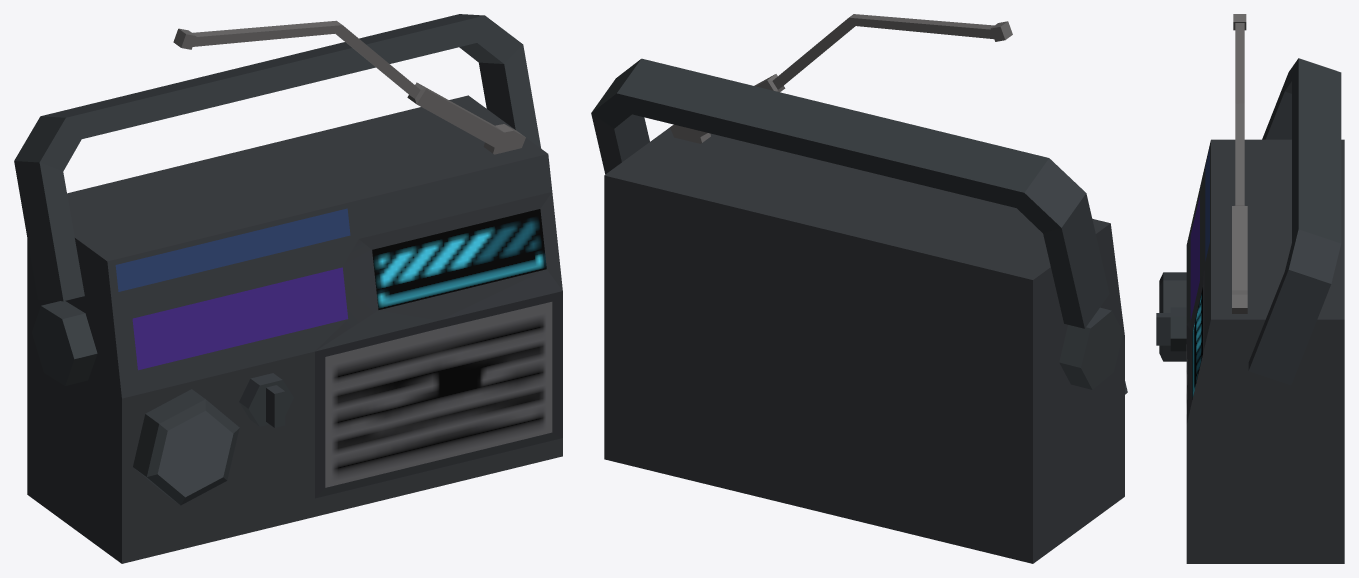
The model's file is SM_Prop_Radio_01.fbx.
3 renders of one model, left to right at view 1: azimuth 30°, elevation 25°; view 2: azimuth 150°, elevation 25°; view 3: azimuth 270°, elevation 25°, orthographic. The views are drawn at different scales.
Visible parts, largest first — view 1: SM_Prop_Radio_01; view 2: SM_Prop_Radio_01; view 3: SM_Prop_Radio_01.
Boxes of the visible parts, x1,y1,x2,y2 form: SM_Prop_Radio_01: (14, 14, 562, 563); SM_Prop_Radio_01: (591, 14, 1127, 563); SM_Prop_Radio_01: (1156, 14, 1344, 563).
Bounding box in the file's own units: 57.79 × 55.37 × 23.2.
